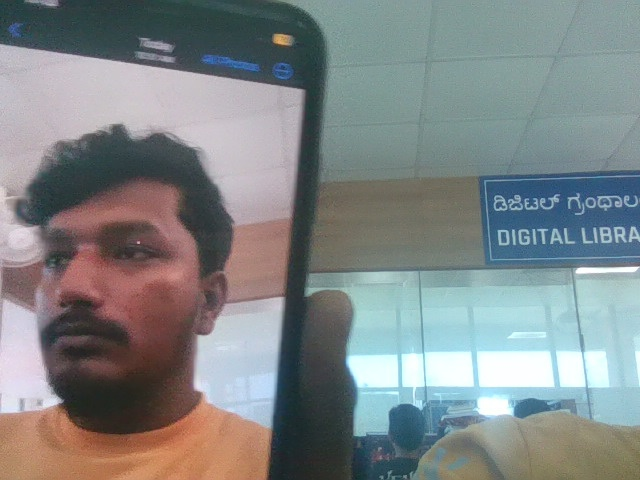fake: (9, 101, 234, 418)
